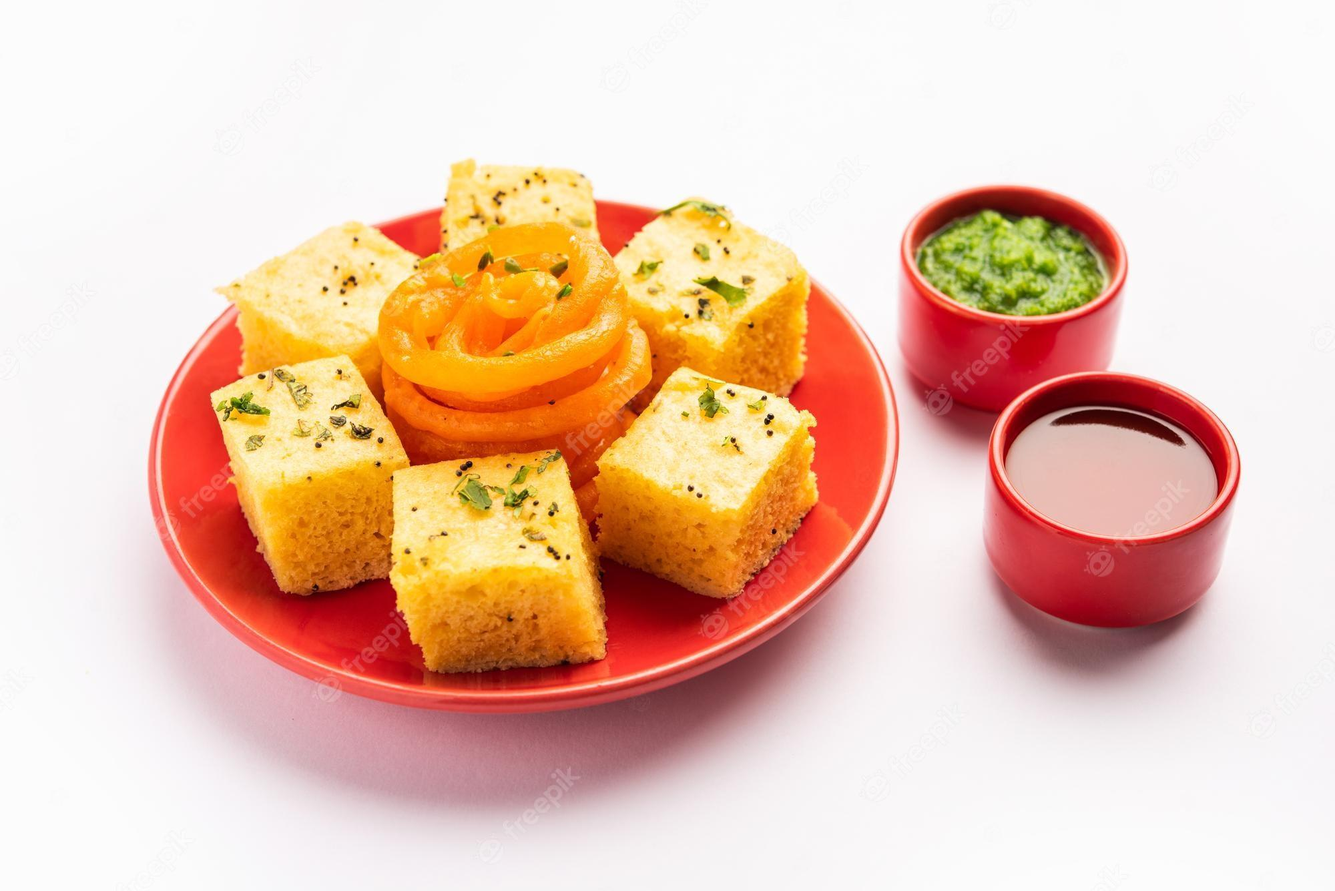dhokla: (225, 168, 810, 665)
